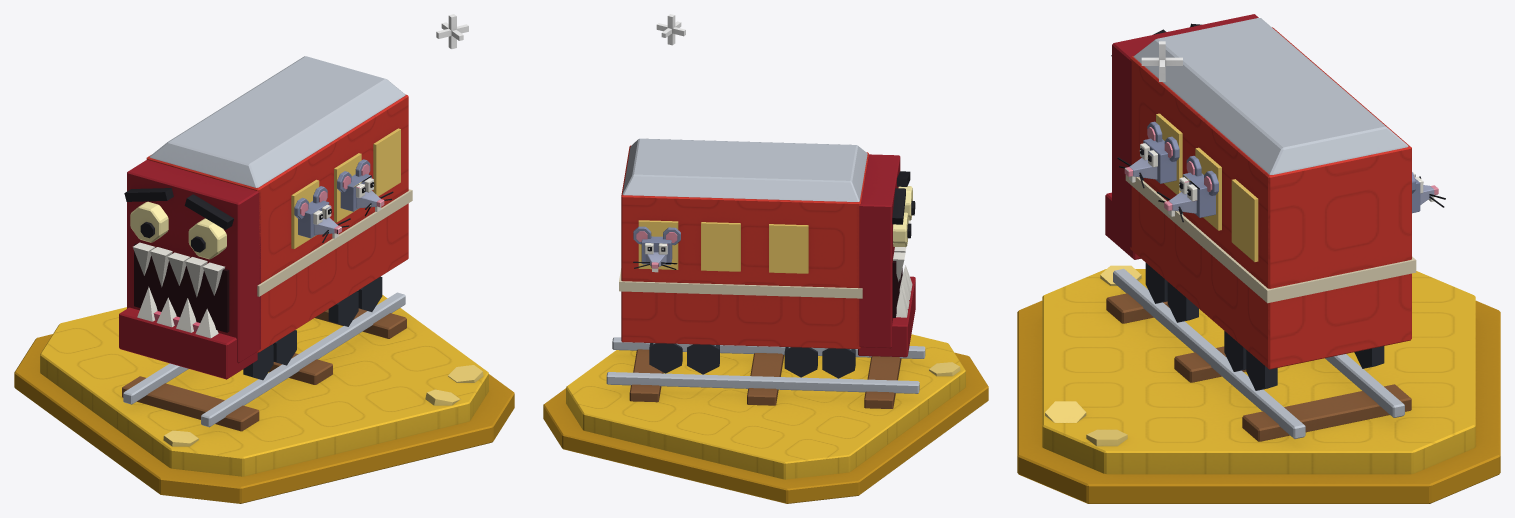
The model's file is MonsterTrain.fbx.
The picture shows the model from 3 angles, left to right: view 1: azimuth 30°, elevation 25°; view 2: azimuth 150°, elevation 25°; view 3: azimuth 270°, elevation 25°; orthographic projection. The views are drawn at different scales.
Visible parts, largest first — view 1: Art_MonsterTrain_Stand, Art_MonsterTrain_Body, Art_MonsterTrain_Jaw, Art_MonsterTrain_Rat2, Art_MonsterTrain_Rat1, Art_MonsterTrain_WheelB, Art_MonsterTrain_WheelF, Art_MonsterTrain_EyeR, Art_MonsterTrain_EyeL; view 2: Art_MonsterTrain_Body, Art_MonsterTrain_Stand, Art_MonsterTrain_Jaw, Art_MonsterTrain_WheelF, Art_MonsterTrain_WheelB, Art_MonsterTrain_Rat3; view 3: Art_MonsterTrain_Stand, Art_MonsterTrain_Body, Art_MonsterTrain_Rat1, Art_MonsterTrain_Rat2, Art_MonsterTrain_WheelB, Art_MonsterTrain_WheelF, Art_MonsterTrain_Rat3, Art_MonsterTrain_Jaw.
Boxes of the visible parts, x1,y1,x2,y2 form: Art_MonsterTrain_Stand: (14,14,514,503); Art_MonsterTrain_Body: (124,56,412,363); Art_MonsterTrain_Jaw: (119,286,257,379); Art_MonsterTrain_Rat2: (337,159,393,216); Art_MonsterTrain_Rat1: (294,186,350,242); Art_MonsterTrain_WheelB: (328,276,382,326); Art_MonsterTrain_WheelF: (243,330,296,380); Art_MonsterTrain_EyeR: (130,201,168,242); Art_MonsterTrain_EyeL: (188,218,226,259); Art_MonsterTrain_Body: (619,138,910,349); Art_MonsterTrain_Stand: (543,14,988,503); Art_MonsterTrain_Jaw: (858,265,915,357); Art_MonsterTrain_WheelF: (784,347,855,378); Art_MonsterTrain_WheelB: (649,343,719,374); Art_MonsterTrain_Rat3: (633,226,680,272); Art_MonsterTrain_Stand: (1017,41,1500,503); Art_MonsterTrain_Body: (1111,14,1416,369); Art_MonsterTrain_Rat1: (1117,121,1179,188); Art_MonsterTrain_Rat2: (1157,155,1218,222); Art_MonsterTrain_WheelB: (1224,331,1384,390); Art_MonsterTrain_WheelF: (1145,263,1198,322); Art_MonsterTrain_Rat3: (1412,171,1445,213); Art_MonsterTrain_Jaw: (1105,192,1140,259).
Bounding box in the file's own units: 3.5 × 3.55 × 3.5.
